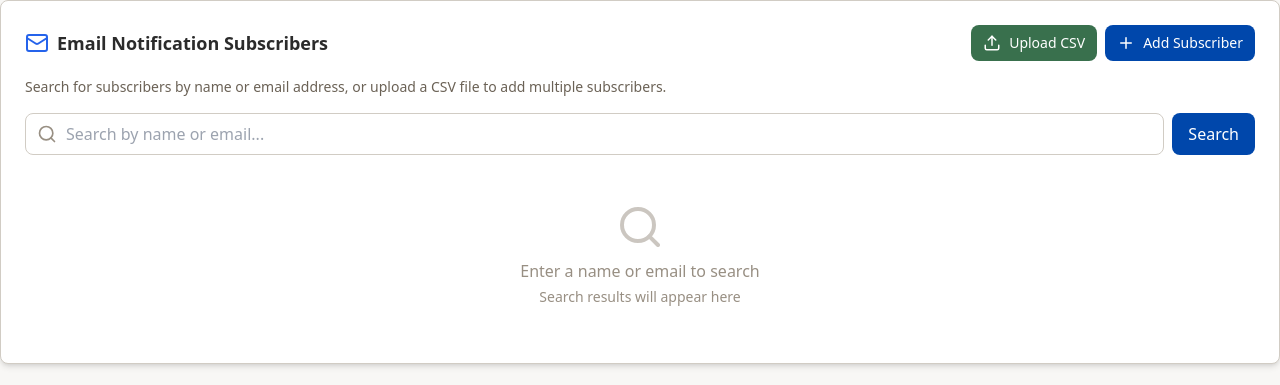
Test case: EmailSubscribers Component › Search Functionality › performs search when search button is clicked
Type "John" into the field with placeholder "Search by name or email..." at (595, 134), box [25,113,1164,155]
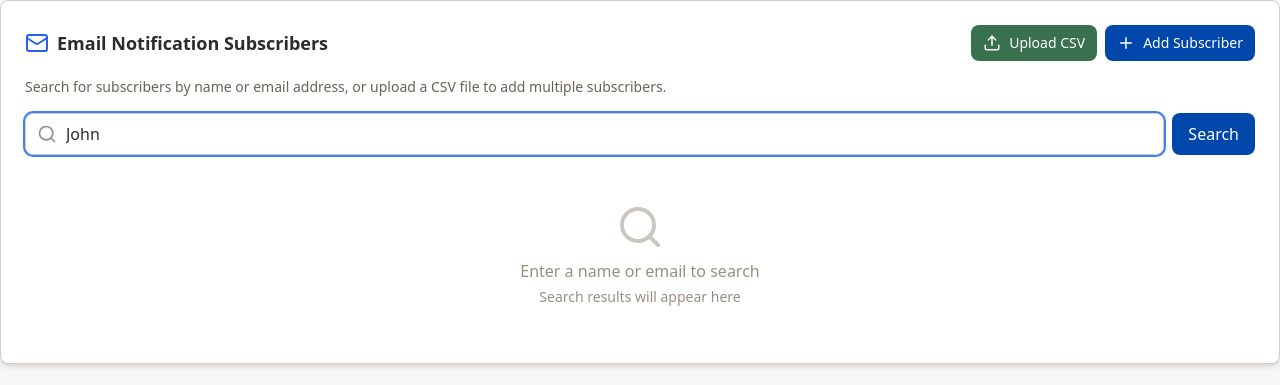
Click the button "Search" at (1214, 134), box [1172,113,1255,155]
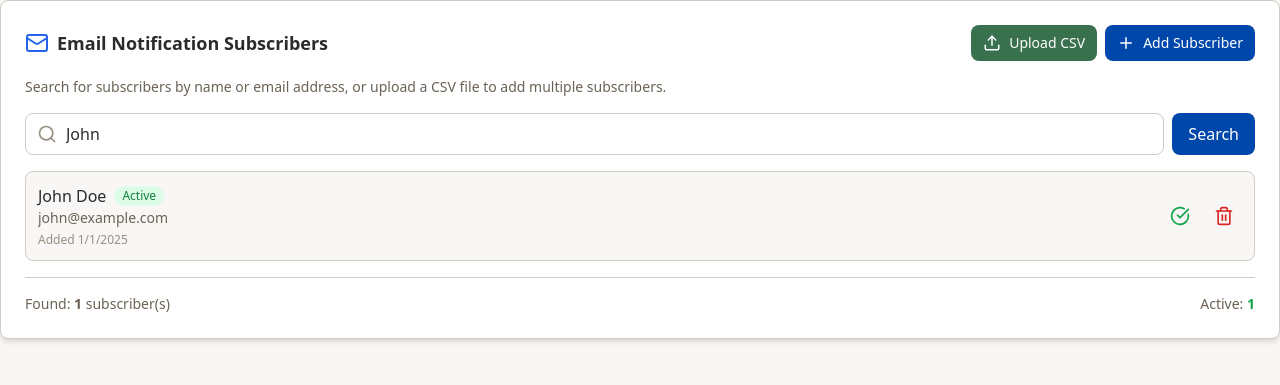
Expected: the heading "John Doe" is shown, [38,184,106,208]
Expected: the text "john@example.com" is shown, [38,208,168,227]
